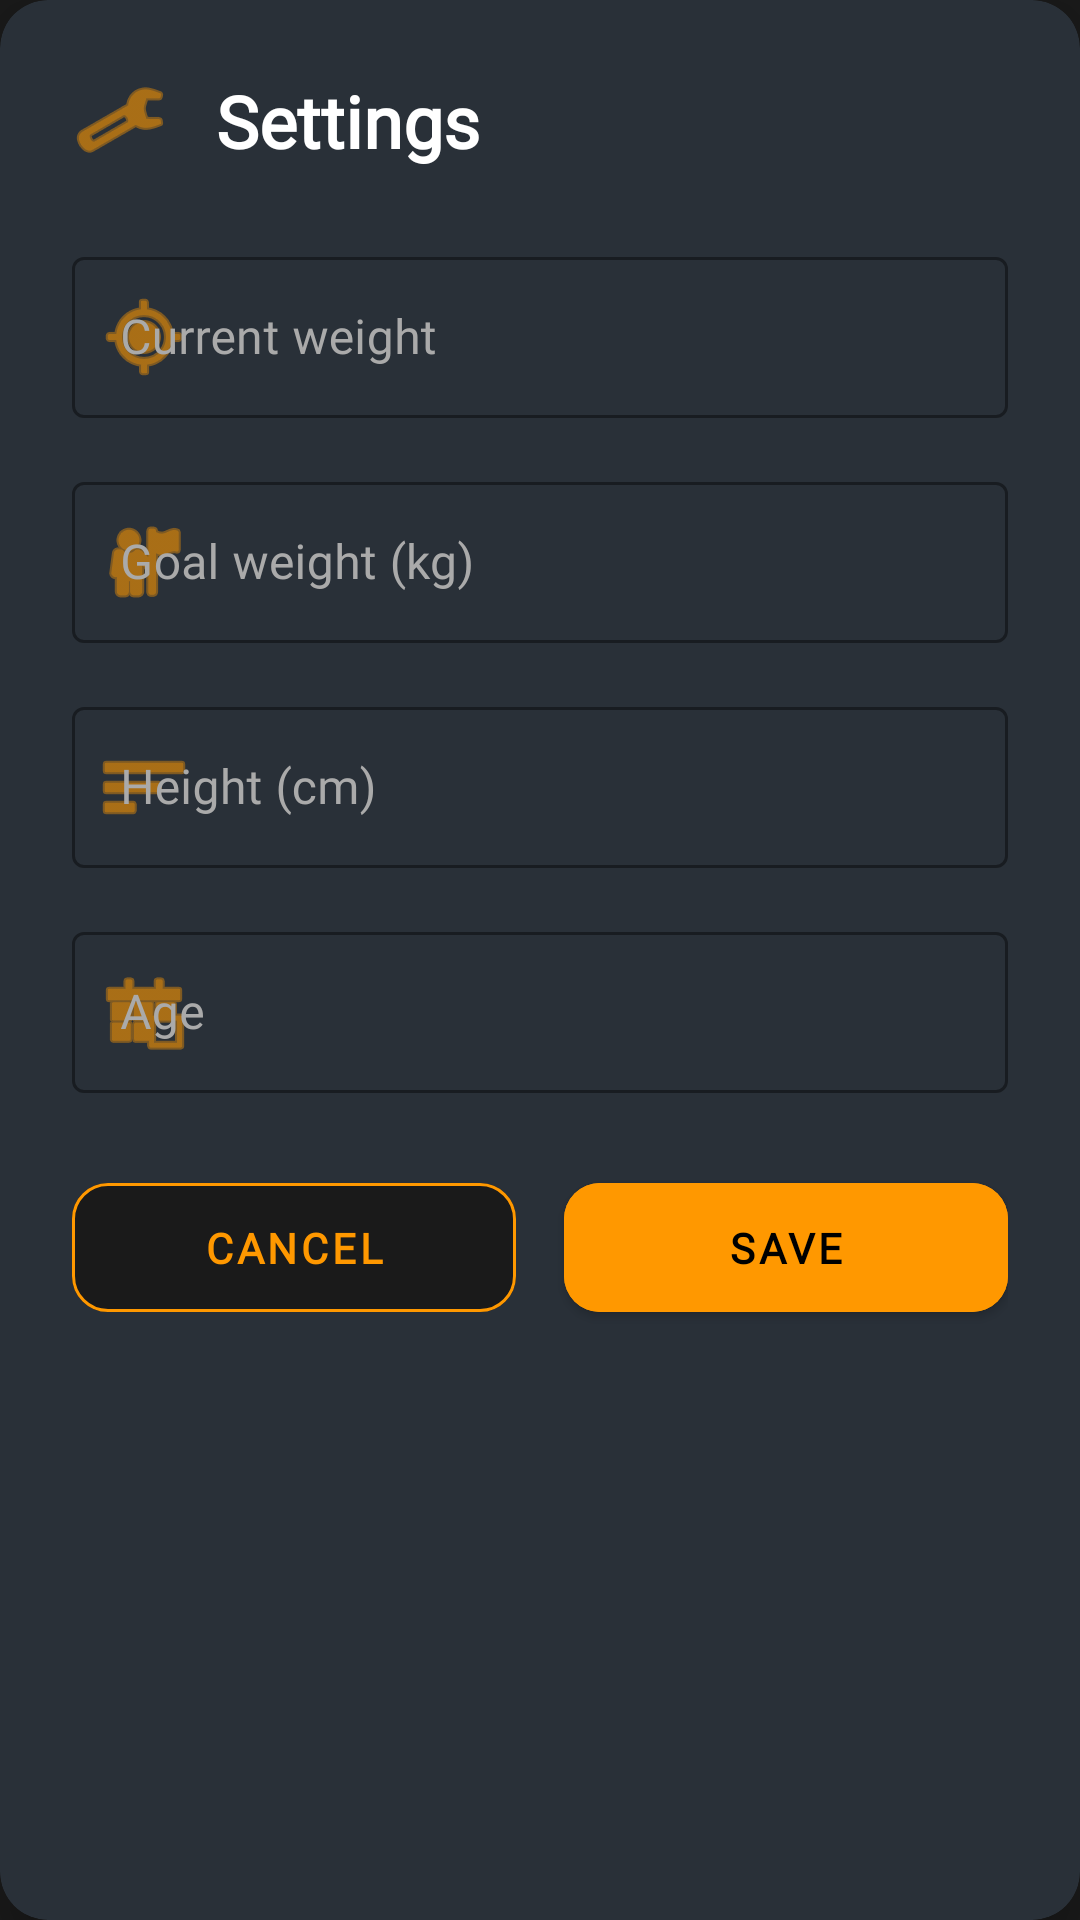

Named icons in this screenshot (1080 × 1920) and their bounding boxes, (x1,y1,x2,y2):
manage: (77,87,163,153)
